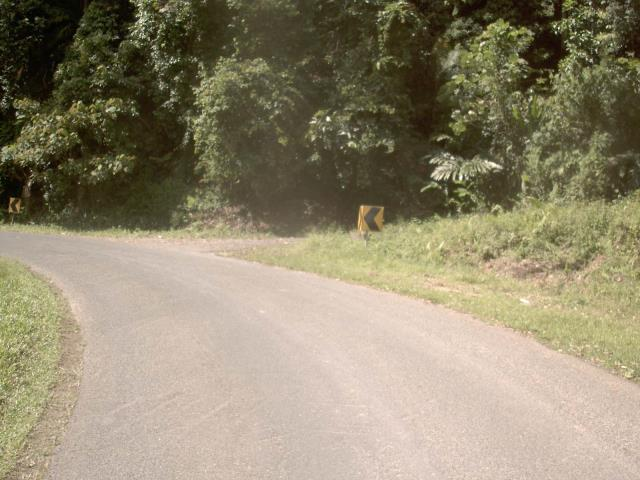traffic_sign: (349, 198, 391, 243)
